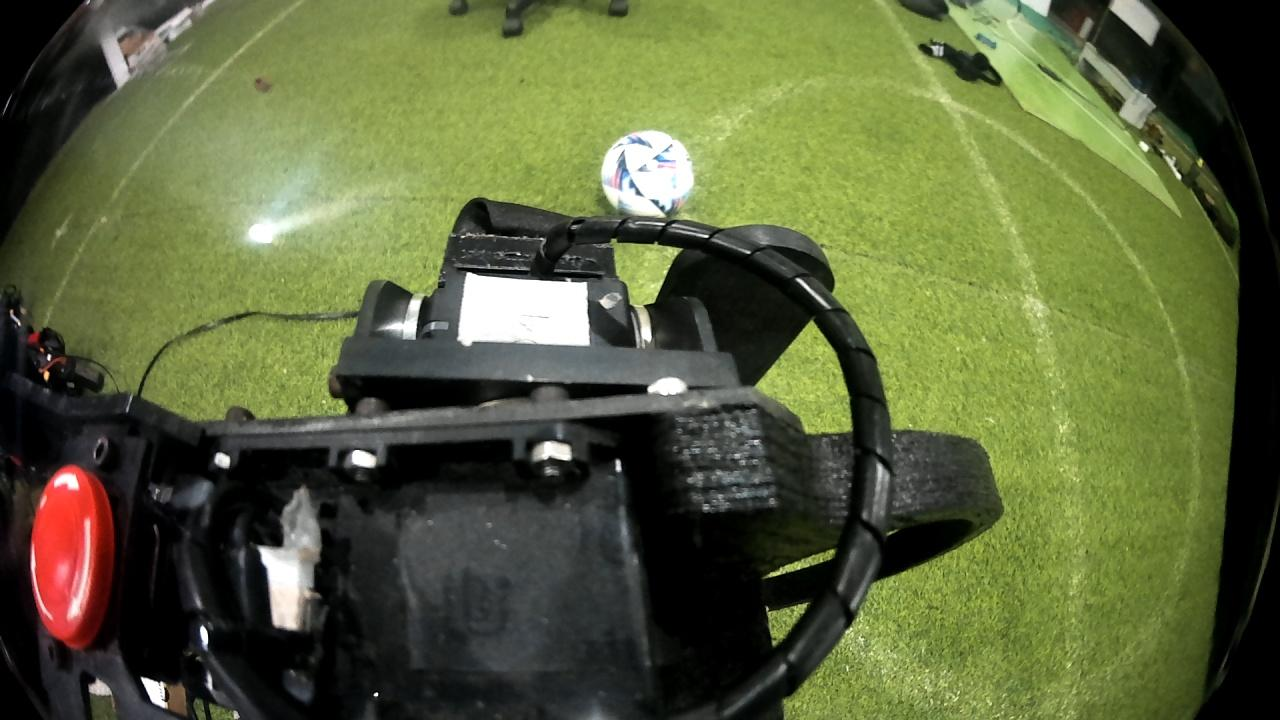ball: (601, 126, 699, 226)
